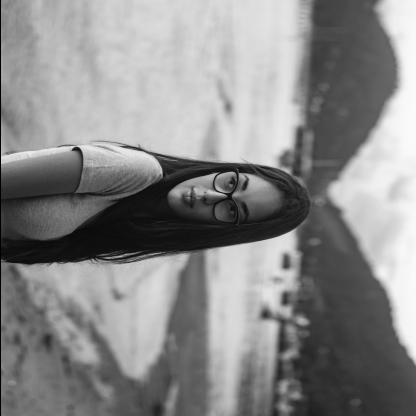Eye: (222, 175, 236, 193), (223, 202, 235, 221)
Mouth: (181, 186, 198, 210)
Nose: (202, 190, 226, 204)
